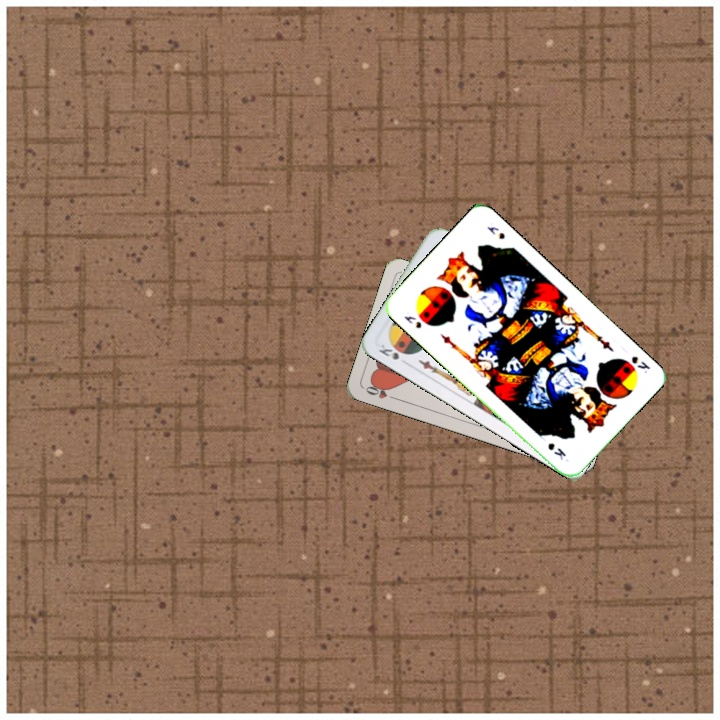HO: (361, 379, 400, 403)
SK: (374, 340, 409, 362), (627, 352, 653, 376), (400, 312, 424, 331)
